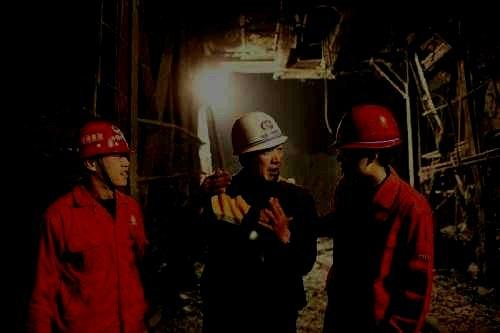helmet: (331, 103, 401, 182), (230, 110, 288, 182), (77, 119, 137, 187)
